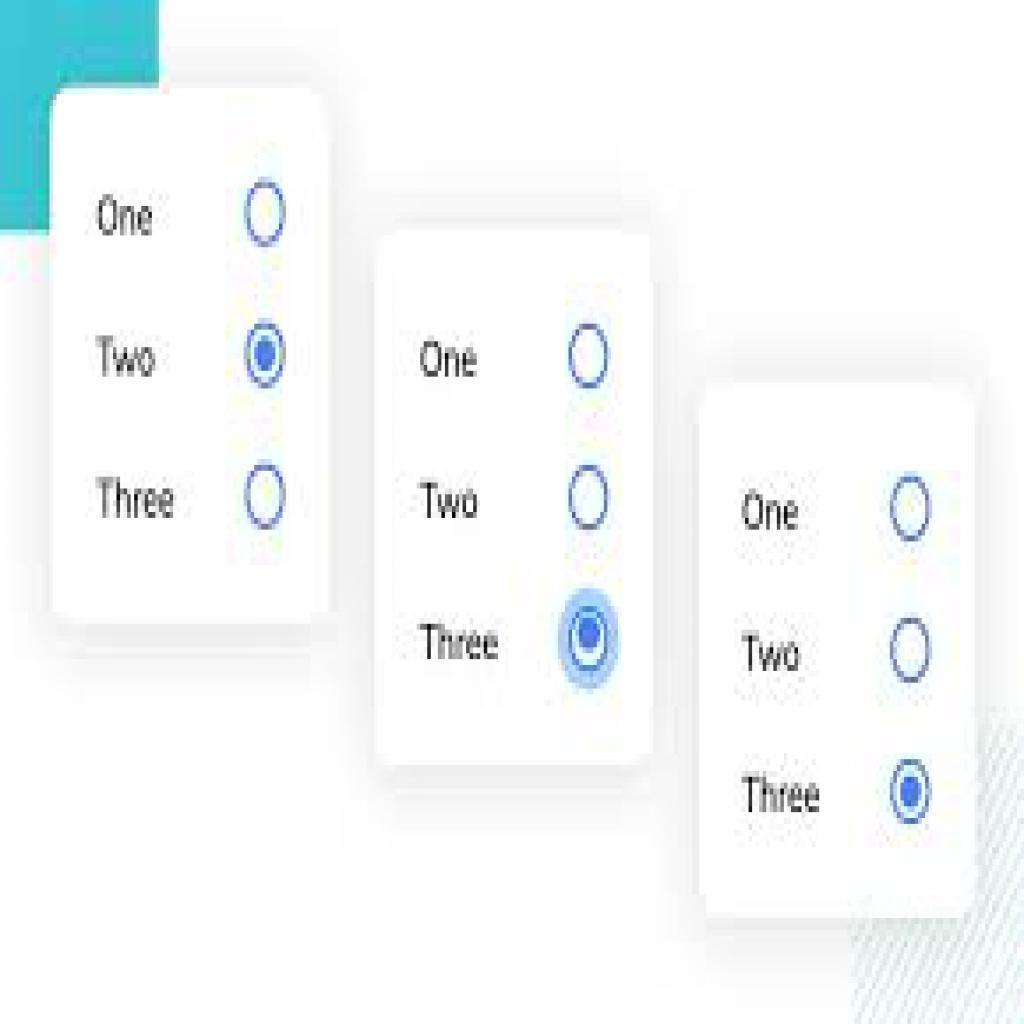label: (415, 616, 506, 672), (92, 471, 183, 524), (740, 772, 822, 825), (736, 624, 812, 681), (90, 191, 161, 247), (96, 330, 163, 388), (410, 474, 486, 525), (414, 337, 483, 385), (737, 487, 801, 538)
radio: (888, 749, 937, 849), (566, 450, 615, 542), (239, 460, 291, 537), (565, 318, 615, 396), (245, 317, 294, 393), (887, 616, 936, 692), (242, 176, 290, 251), (888, 474, 934, 546), (569, 606, 609, 681)
